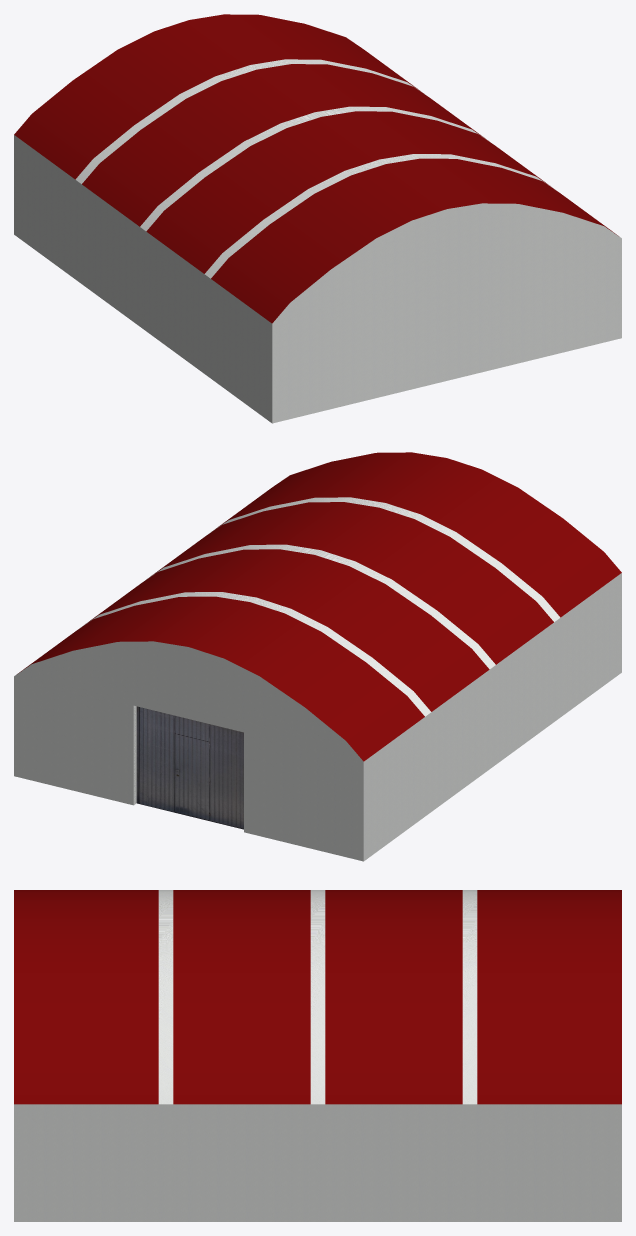
The model's file is SM_ChangKu.FBX.
3 renders of one model, top to bottom at view 1: azimuth 30°, elevation 25°; view 2: azimuth 150°, elevation 25°; view 3: azimuth 270°, elevation 25°, orthographic. The views are drawn at different scales.
Visible parts, largest first — view 1: SM_ChangKu; view 2: SM_ChangKu; view 3: SM_ChangKu.
Boxes of the visible parts, x1,y1,x2,y2 form: SM_ChangKu: (14,14,621,423); SM_ChangKu: (14,452,621,861); SM_ChangKu: (14,890,621,1221).
Bounding box in the file's own units: 1650 × 774 × 2110.
Materials: 3 (2 with a texture image).
